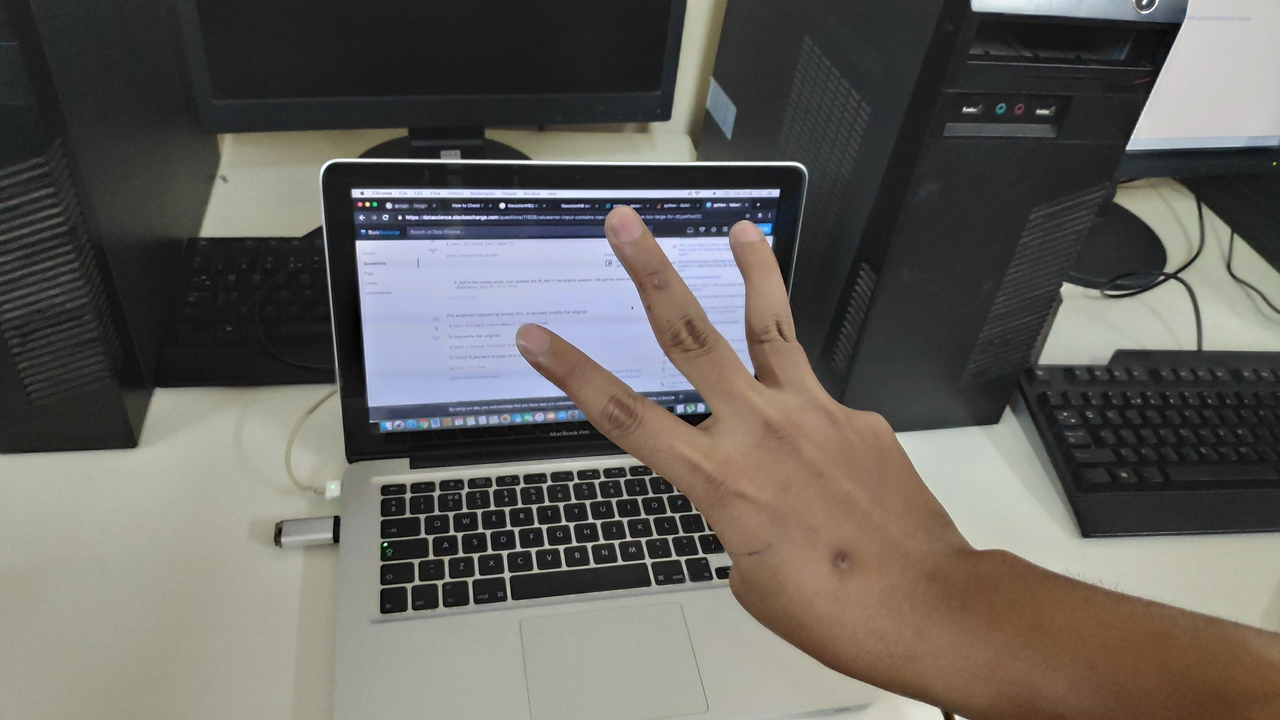fingertip: (596, 198, 654, 252), (720, 214, 776, 266), (507, 318, 564, 360)
